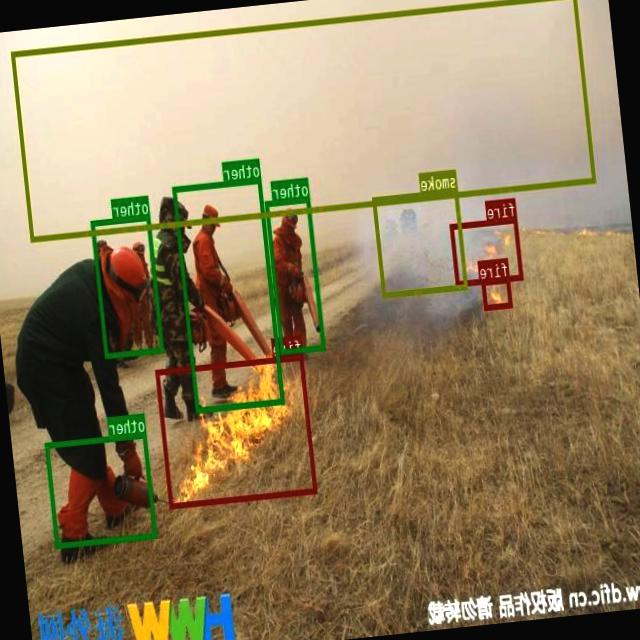fire: (156, 353, 318, 508), (450, 216, 523, 285), (482, 276, 512, 310)
smoke: (11, 0, 596, 241), (372, 187, 468, 296)
